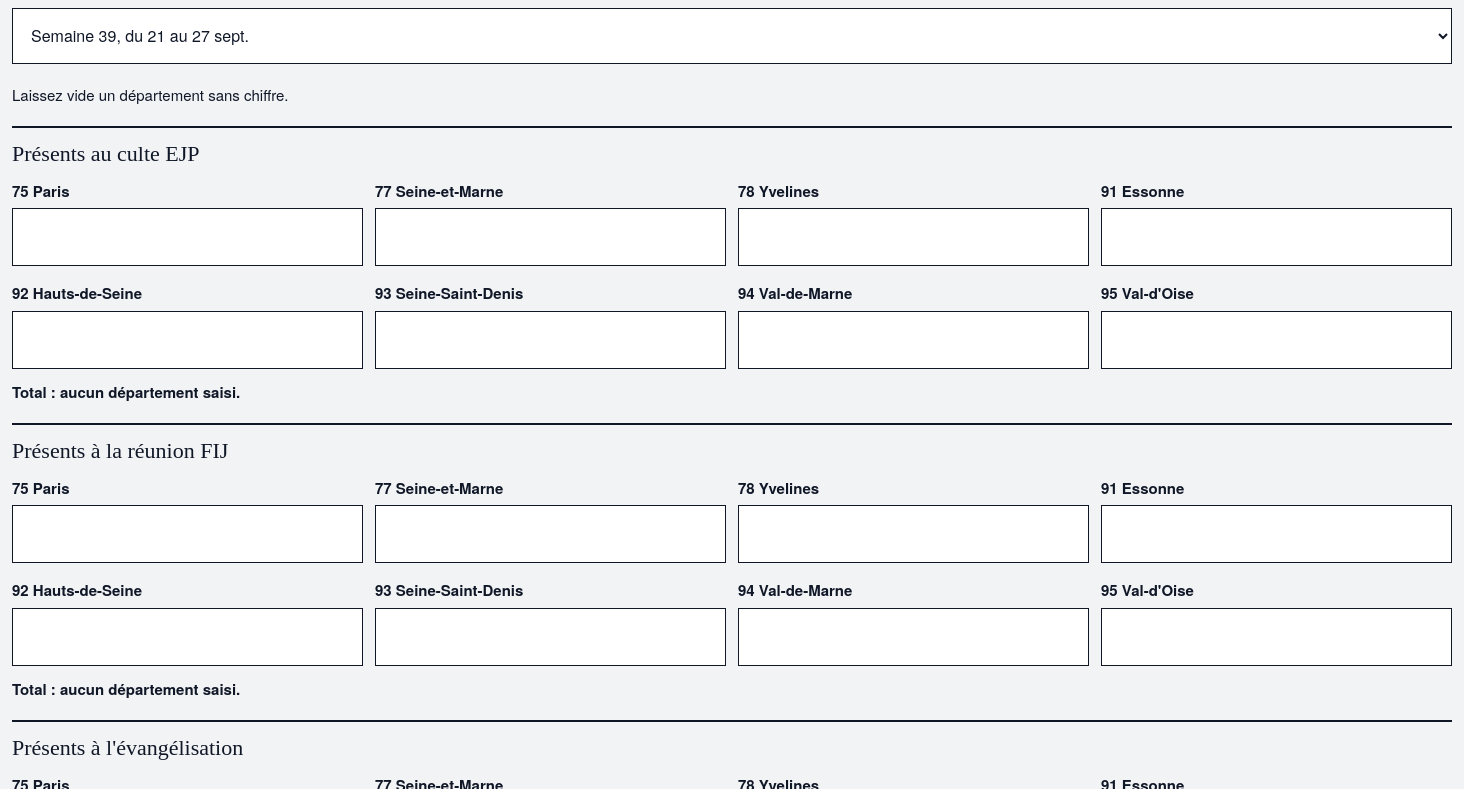
Test: FormulaireStatistiquesFij › n’envoie que les départements saisis, en un appel, puis le message de la semaine
The width and height of the screenshot is (1464, 789).
In the field labelled "75 Paris" below "Présents au culte EJP": point(188, 237) x1=12 y1=208 x2=363 y2=266, type "12"
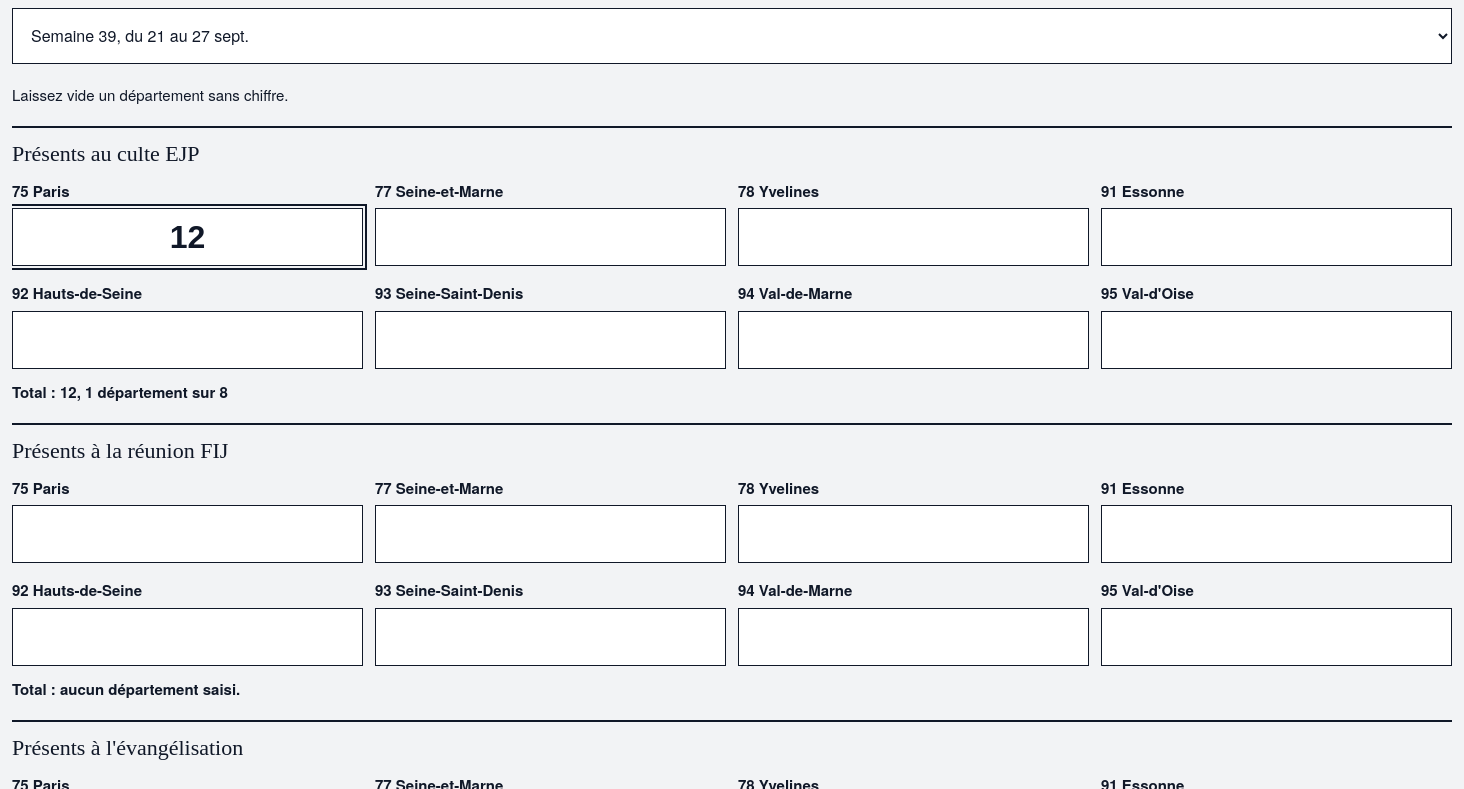
In the field labelled "93 Seine-Saint-Denis" below "Présents au culte EJP": point(550, 340) x1=375 y1=310 x2=726 y2=368, type "0"
(page scrolled)
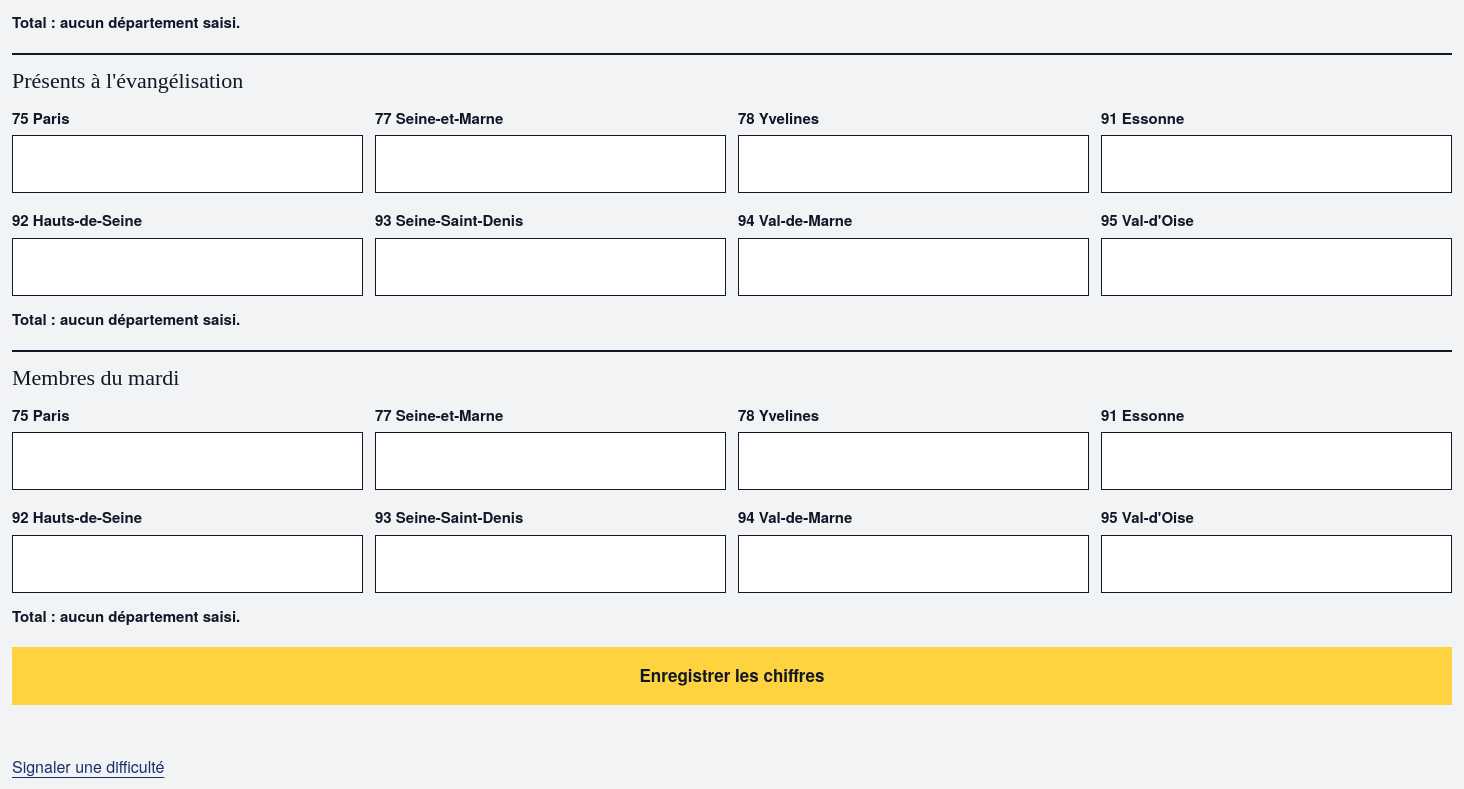
Click the button named "Enregistrer les chiffres": point(732, 676) x1=12 y1=647 x2=1452 y2=705
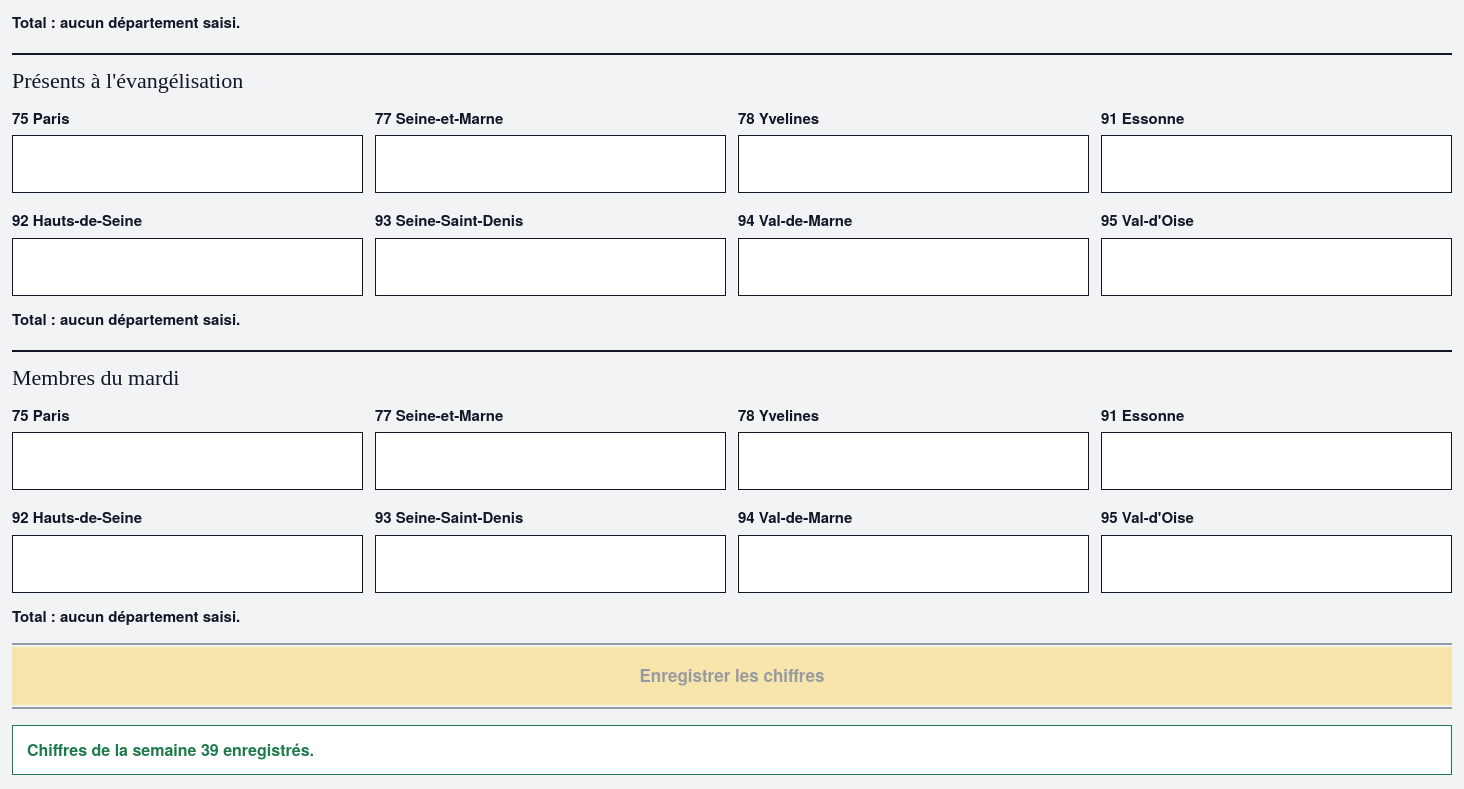
Expected: the text "Chiffres de la semaine 39 enregistrés." is shown, x1=12 y1=725 x2=1452 y2=775
